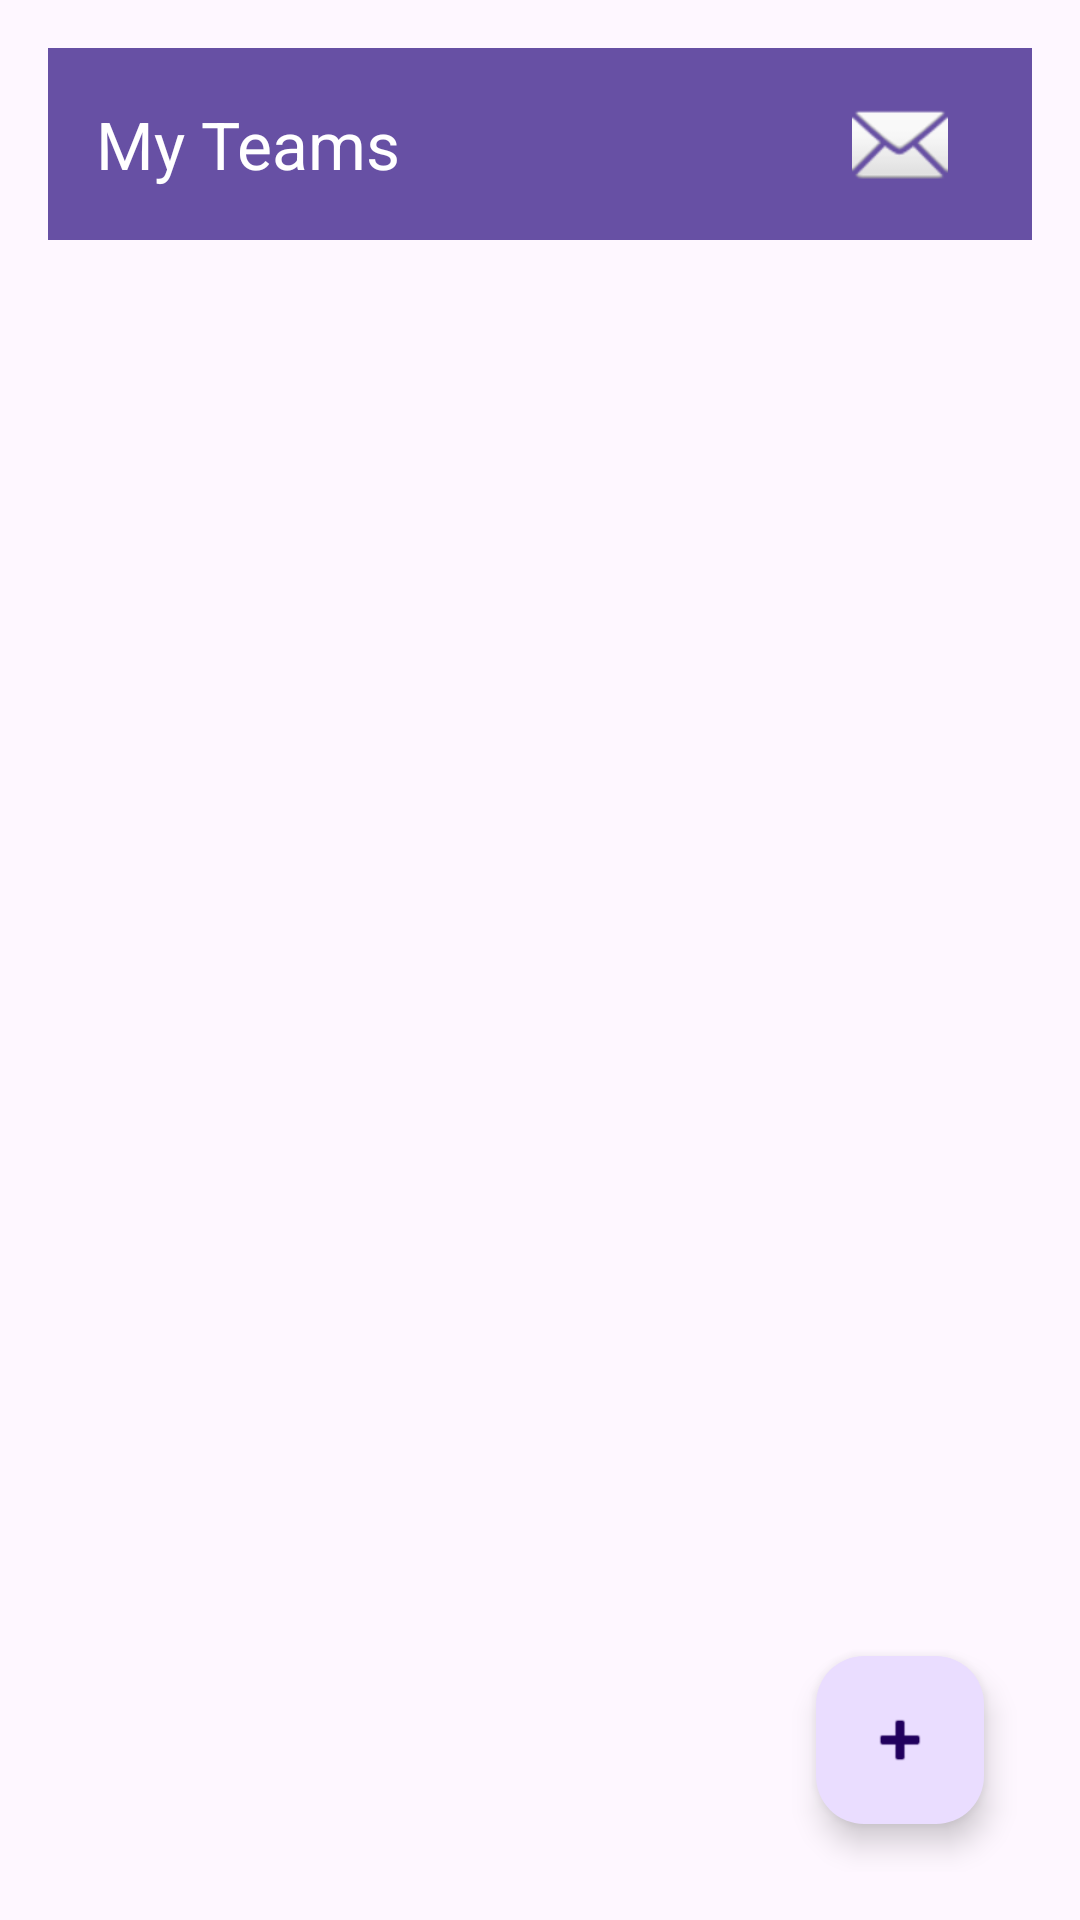

Locate icon controls on the screen. Image size 1080 x 1920, boxes as {"left": x1, "top": y1, "right": x2, "bottom": y2}.
add: {"left": 816, "top": 1656, "right": 984, "bottom": 1824}
Invitations: {"left": 852, "top": 111, "right": 948, "bottom": 179}
